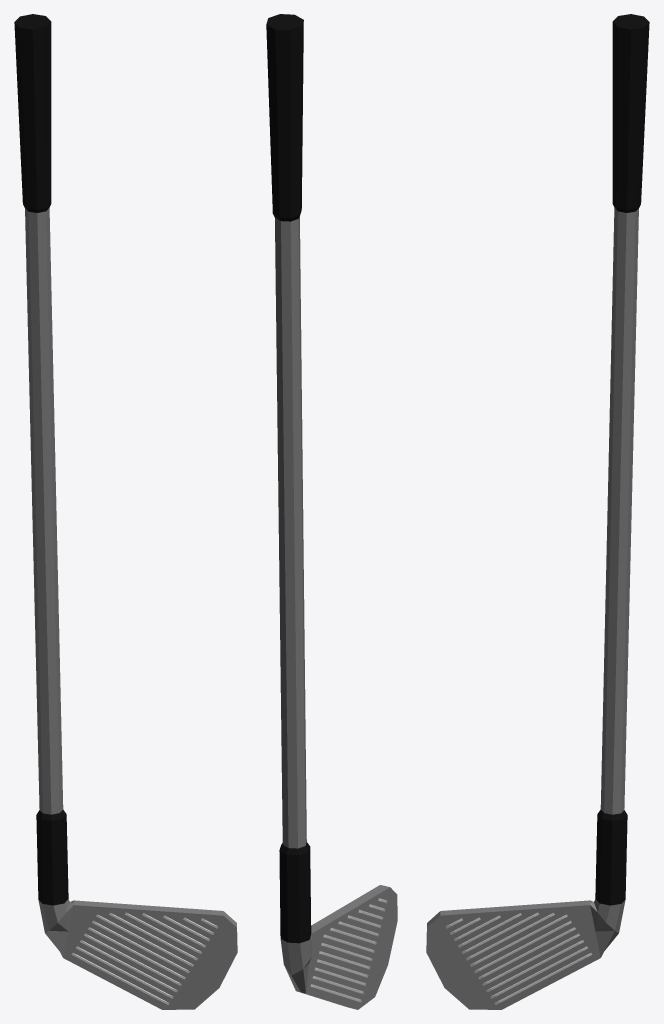
Rendered from Golf Club.glb.
The picture shows the model from 3 angles, left to right: view 1: azimuth 90°, elevation 25°; view 2: azimuth 150°, elevation 25°; view 3: azimuth 270°, elevation 25°; orthographic projection. The views are drawn at different scales.
Visible parts, largest first — view 1: Golf Club; view 2: Golf Club; view 3: Golf Club.
Part boxes in pixels (box(x1,y1,x2,y2)): Golf Club: box(14, 14, 237, 1009); Golf Club: box(266, 14, 397, 1009); Golf Club: box(426, 14, 649, 1009).
Bounding box in the file's own units: 0.0261 × 0.7687 × 0.1576.
1 material, 1 textured.
